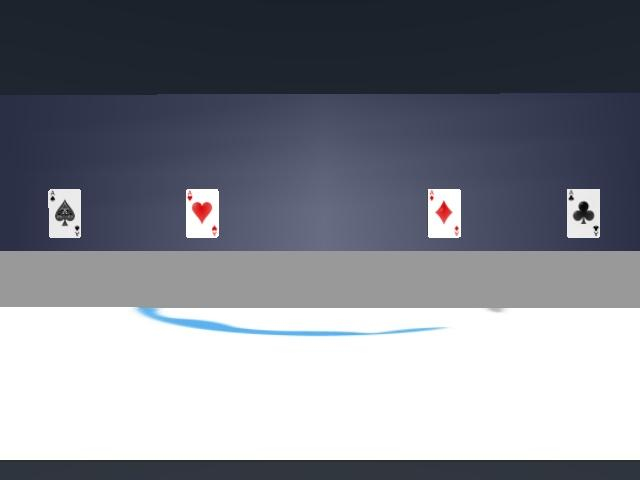club: (566, 189, 600, 237)
diamond: (427, 189, 460, 237)
heart: (185, 189, 219, 237)
spade: (48, 189, 82, 238)
